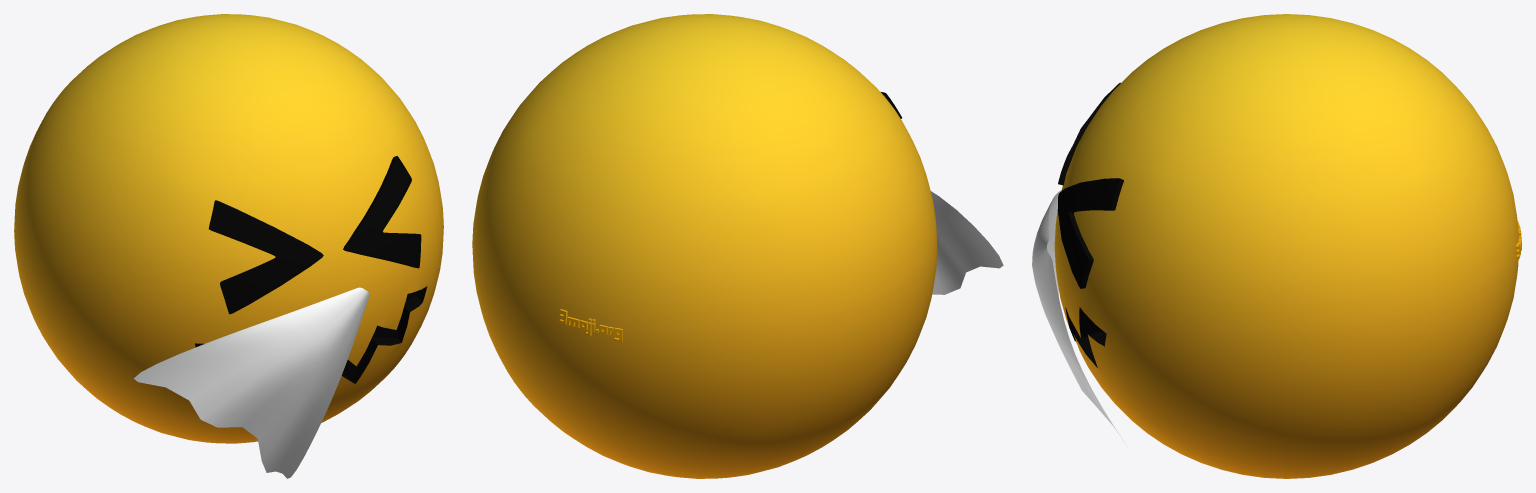
Rendered from sneezing_face.glb.
The picture shows the model from 3 angles, left to right: view 1: azimuth 30°, elevation 25°; view 2: azimuth 150°, elevation 25°; view 3: azimuth 270°, elevation 25°; orthographic projection. The views are drawn at different scales.
Visible parts, largest first — view 1: sneezing_face; view 2: sneezing_face; view 3: sneezing_face.
Boxes of the visible parts, x1,y1,x2,y2 form: sneezing_face: [14, 14, 443, 478]; sneezing_face: [472, 14, 1003, 478]; sneezing_face: [1032, 14, 1521, 478].
Bounding box in the file's own units: 1.69 × 1.69 × 1.78.
1 material, 1 textured.
